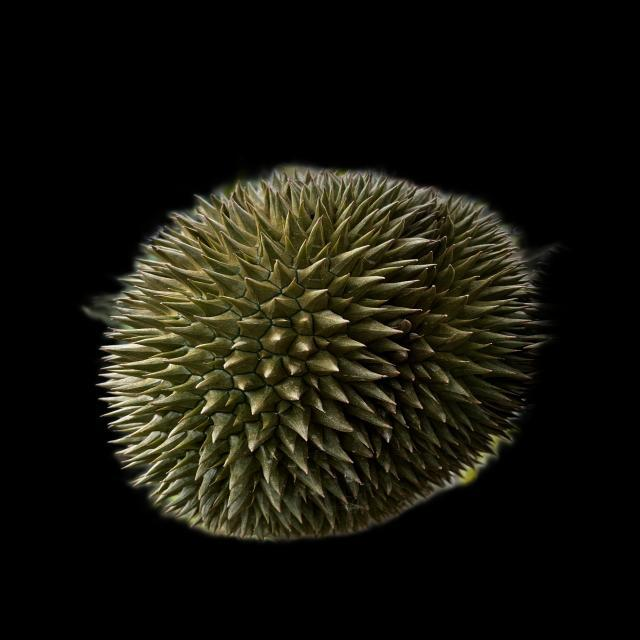immature: (96, 167, 542, 540)
